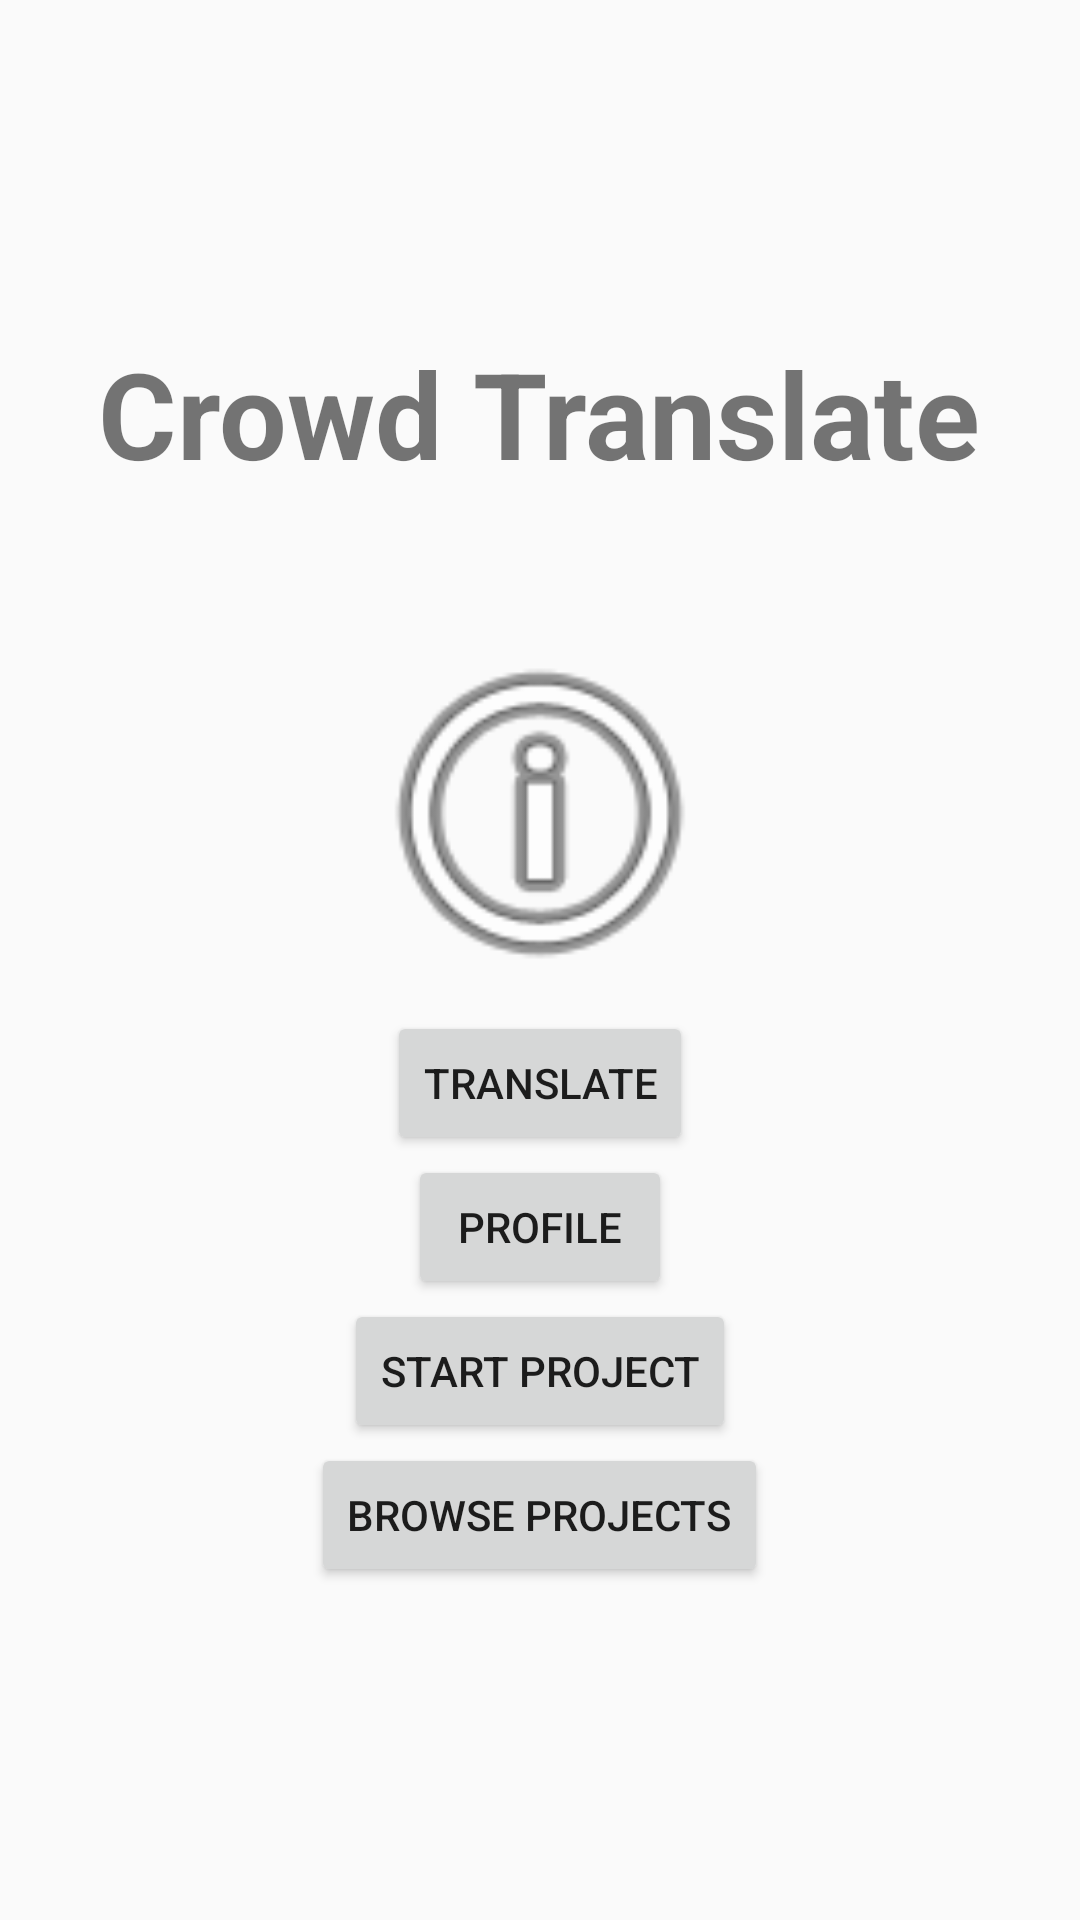

Named icons in this screenshot (1080x1920) and their bounding boxes, [x1,y1,x2,y2]:
info details: [397,671,683,956]
